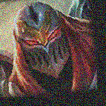Zed: (1, 2, 98, 94)
